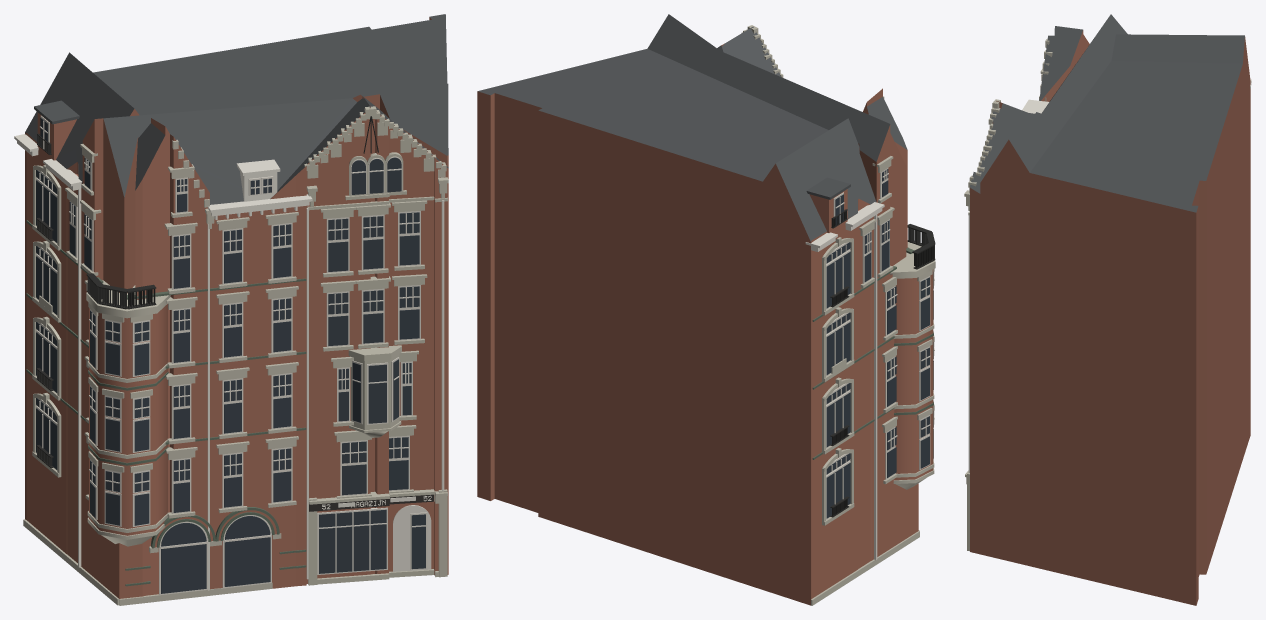
Rendered from raadhuisstraat-52.glb.
3 views of the same model, side by side, from view 1: azimuth 30°, elevation 25°; view 2: azimuth 150°, elevation 25°; view 3: azimuth 270°, elevation 25° (orthographic). The views are drawn at different scales.
Visible parts, largest first — view 1: raadhuisstraat-52; view 2: raadhuisstraat-52; view 3: raadhuisstraat-52.
Part boxes in pixels (<box>): raadhuisstraat-52: <box>14,14,448,605</box>; raadhuisstraat-52: <box>477,14,935,605</box>; raadhuisstraat-52: <box>964,14,1251,605</box>.
Bounding box in the file's own units: 22.63 × 24.23 × 14.9.
